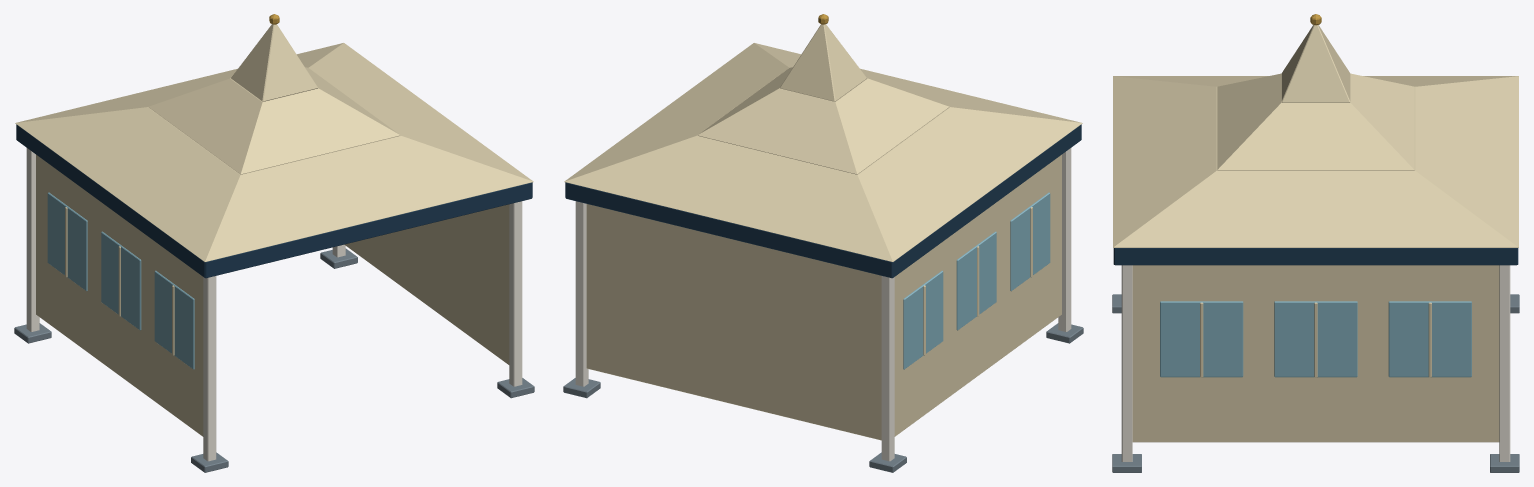
File: b20_pagoda_festival_marquee.glb
3 renders of one model, left to right at view 1: azimuth 30°, elevation 25°; view 2: azimuth 150°, elevation 25°; view 3: azimuth 270°, elevation 25°, orthographic. The views are drawn at different scales.
Visible parts, largest first — view 1: b20_pagoda_festival_marquee; view 2: b20_pagoda_festival_marquee; view 3: b20_pagoda_festival_marquee.
Part boxes in pixels (box(x1,y1,x2,y2)): b20_pagoda_festival_marquee: box(14, 14, 534, 472); b20_pagoda_festival_marquee: box(563, 14, 1083, 472); b20_pagoda_festival_marquee: box(1112, 14, 1519, 472).
Bounding box in the file's own units: 4.1 × 4.14 × 4.1.
